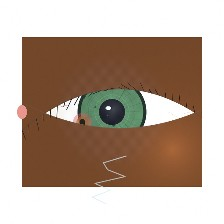foreign_body_visible: (64, 108, 101, 138)
